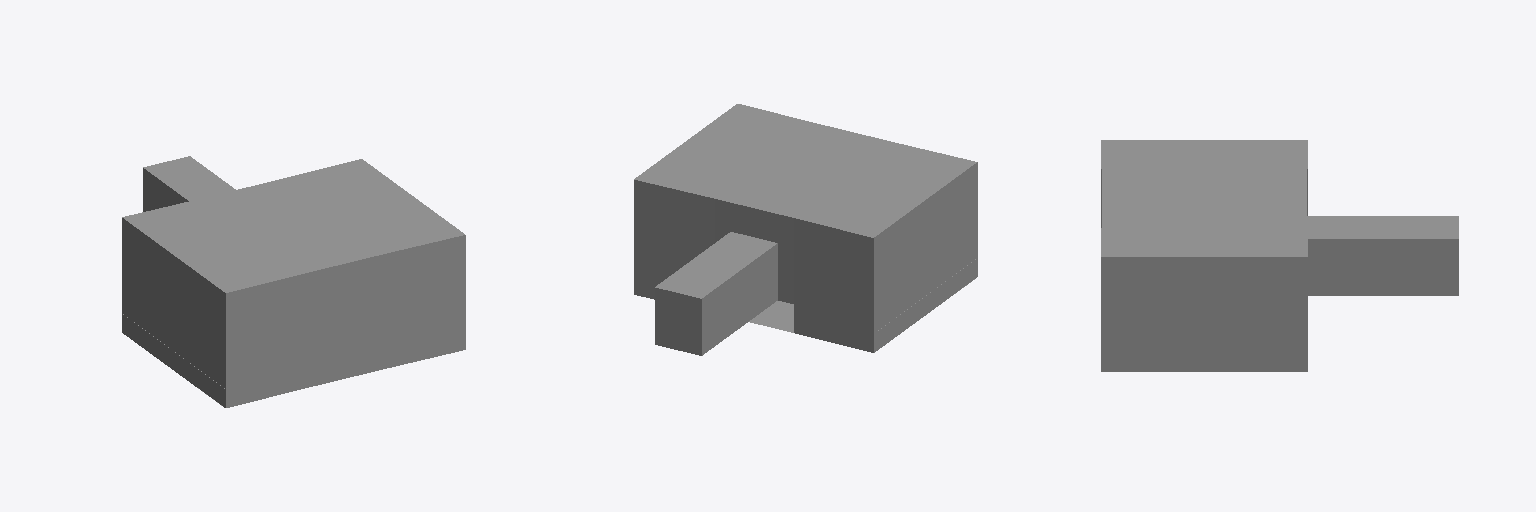
Rendered from MovingUp.obj.
3 views of the same model, side by side, from view 1: azimuth 30°, elevation 25°; view 2: azimuth 150°, elevation 25°; view 3: azimuth 270°, elevation 25° (orthographic).
Visible parts, largest first — view 1: Cube, Cube.001; view 2: Cube, Cube.001; view 3: Cube.
Part boxes in pixels (left/top/right/bottom): Cube: left=122, top=156, right=465, bottom=407; Cube.001: left=123, top=314, right=224, bottom=405; Cube: left=634, top=104, right=977, bottom=355; Cube.001: left=786, top=259, right=975, bottom=351; Cube: left=1101, top=140, right=1458, bottom=371.
Size of the model in its own units: 24.02 by 11 by 31.08.